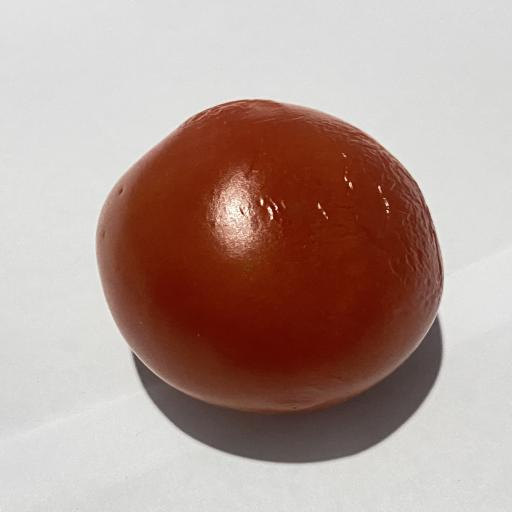overipe: (96, 100, 443, 412), (97, 100, 443, 412)
